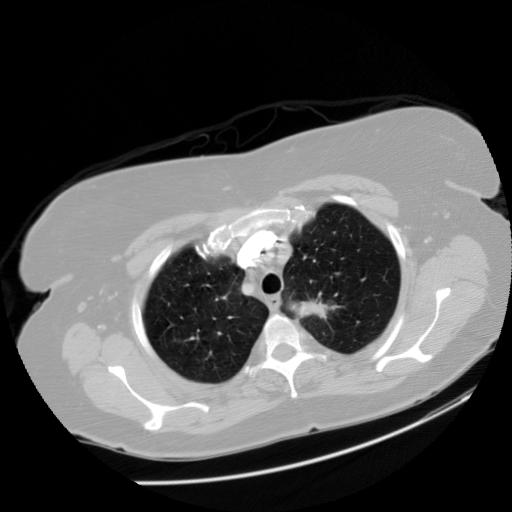nodule: (297, 292, 333, 328)
